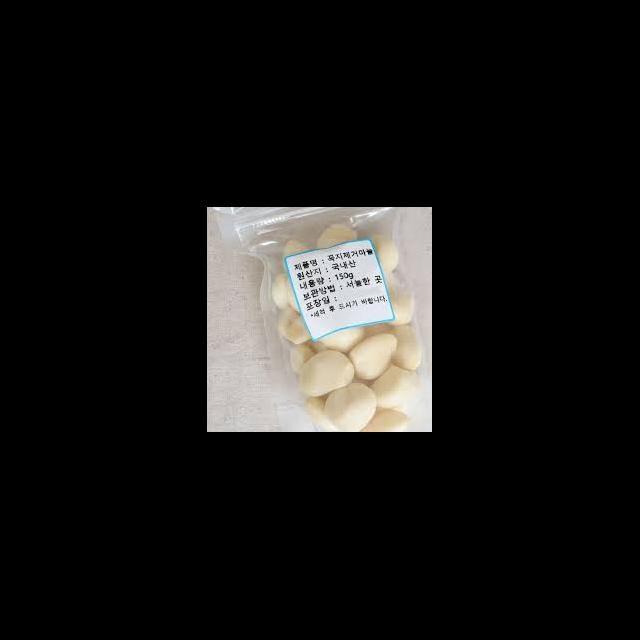garlic: (296, 336, 418, 429)
